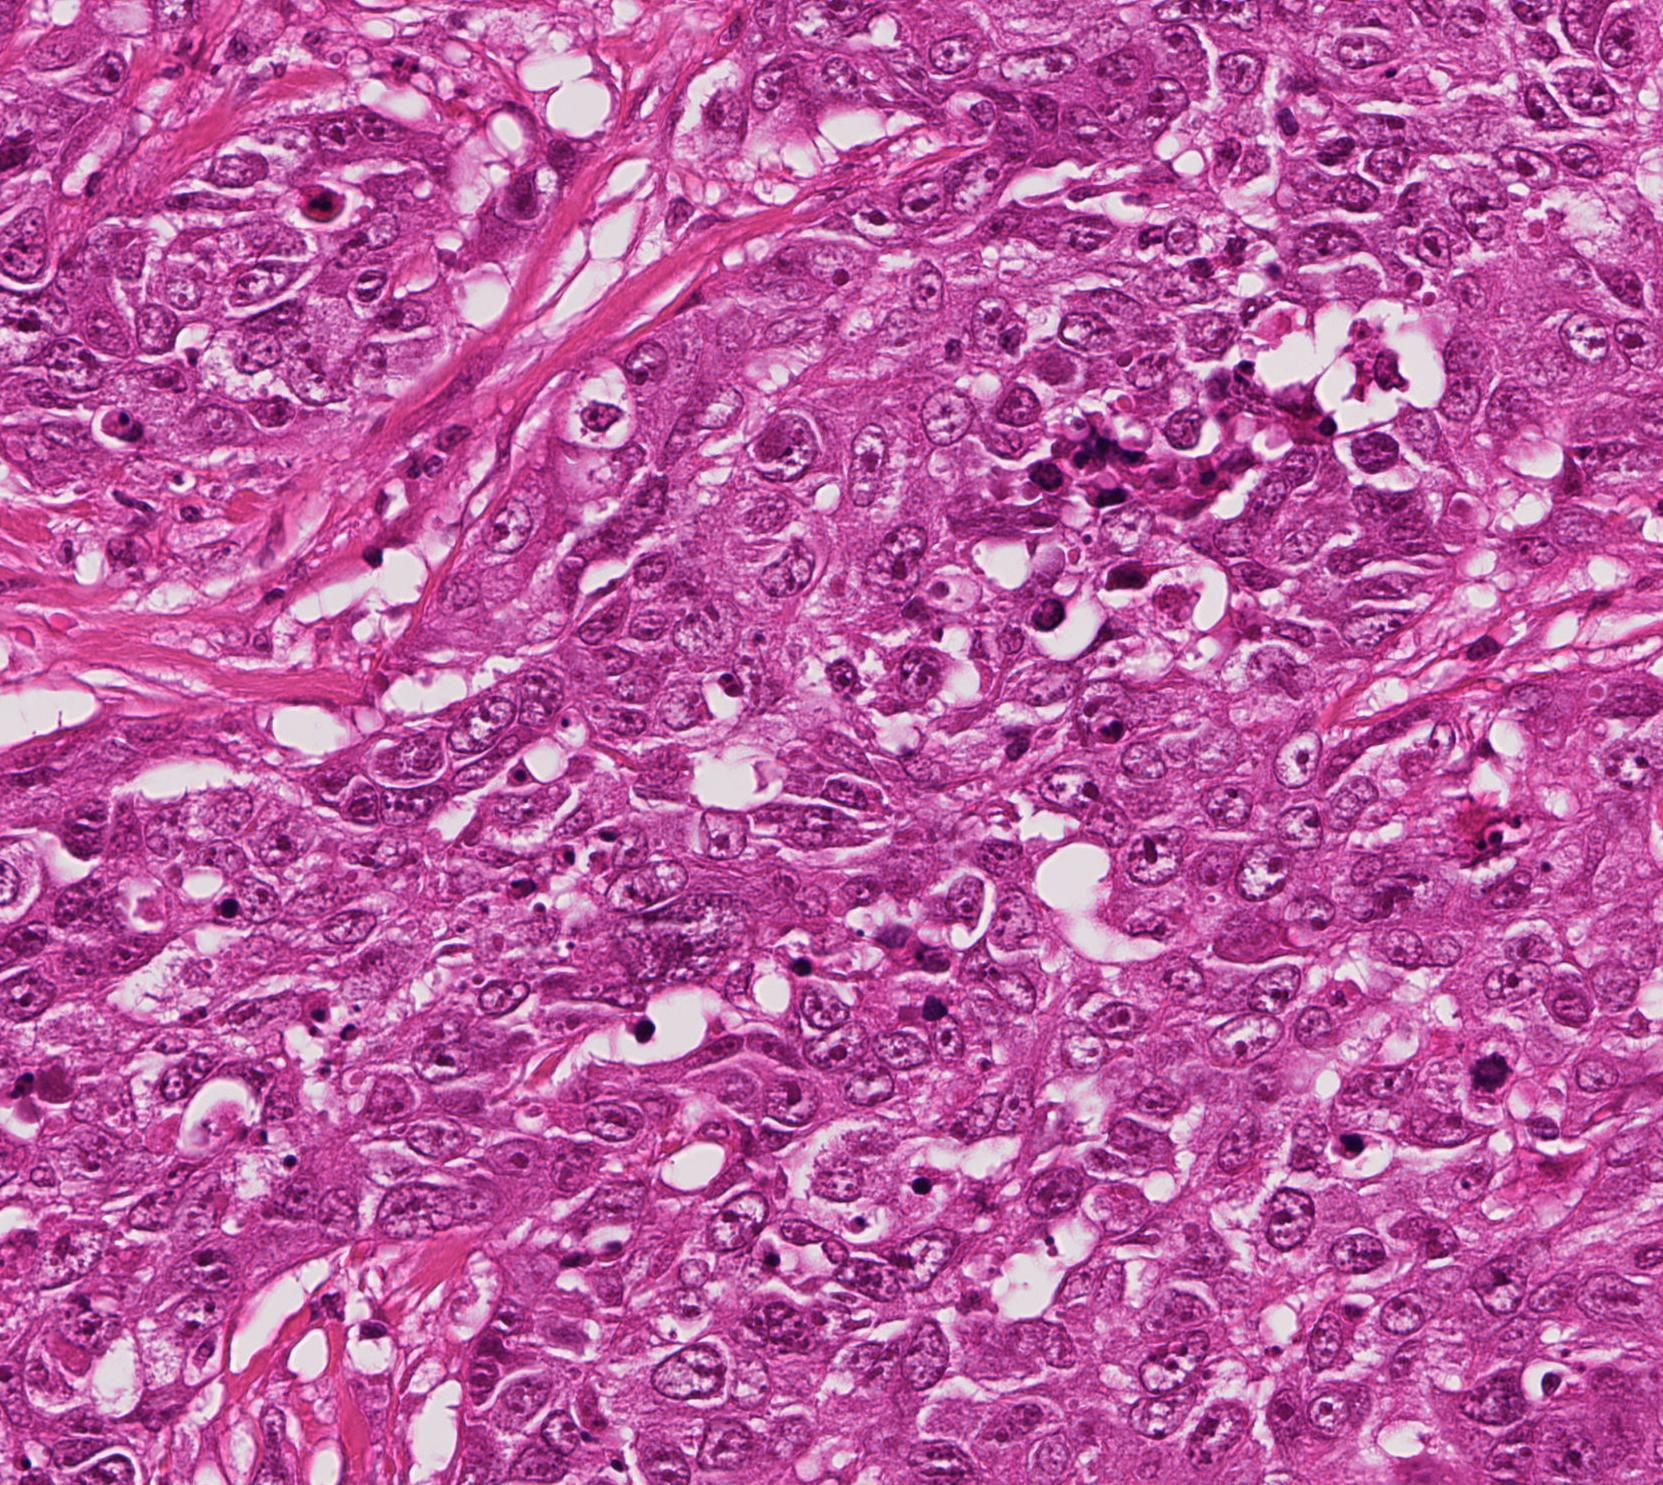mitosis: (1459, 1042, 1520, 1102)
